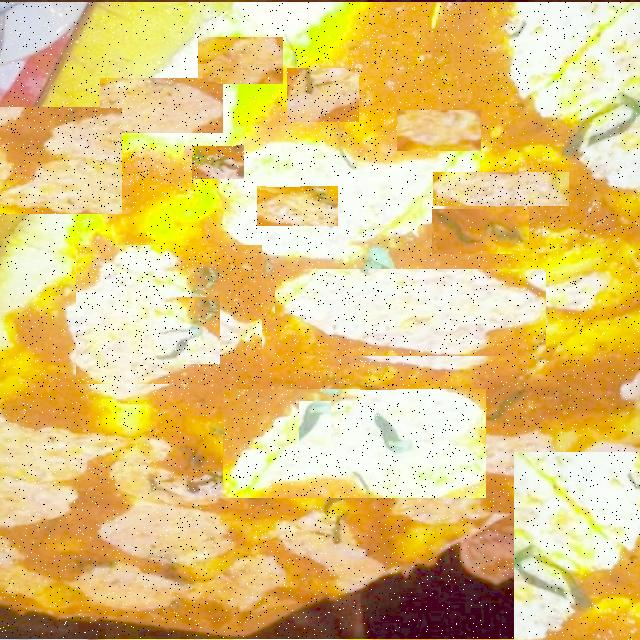Basil: (559, 471, 640, 546), (154, 297, 220, 364), (432, 210, 529, 254), (324, 96, 377, 160), (192, 146, 244, 179), (299, 401, 331, 453), (360, 360, 396, 399), (266, 166, 300, 207)
Cheese: (223, 390, 486, 498), (76, 246, 262, 384), (514, 453, 640, 640), (275, 270, 546, 356), (0, 108, 122, 214), (100, 79, 223, 133), (112, 140, 236, 185), (433, 173, 569, 206), (198, 38, 283, 84), (287, 69, 359, 122), (75, 32, 181, 66), (397, 111, 481, 151), (257, 187, 338, 226), (546, 323, 608, 372)
Pizza: (0, 3, 640, 638)
